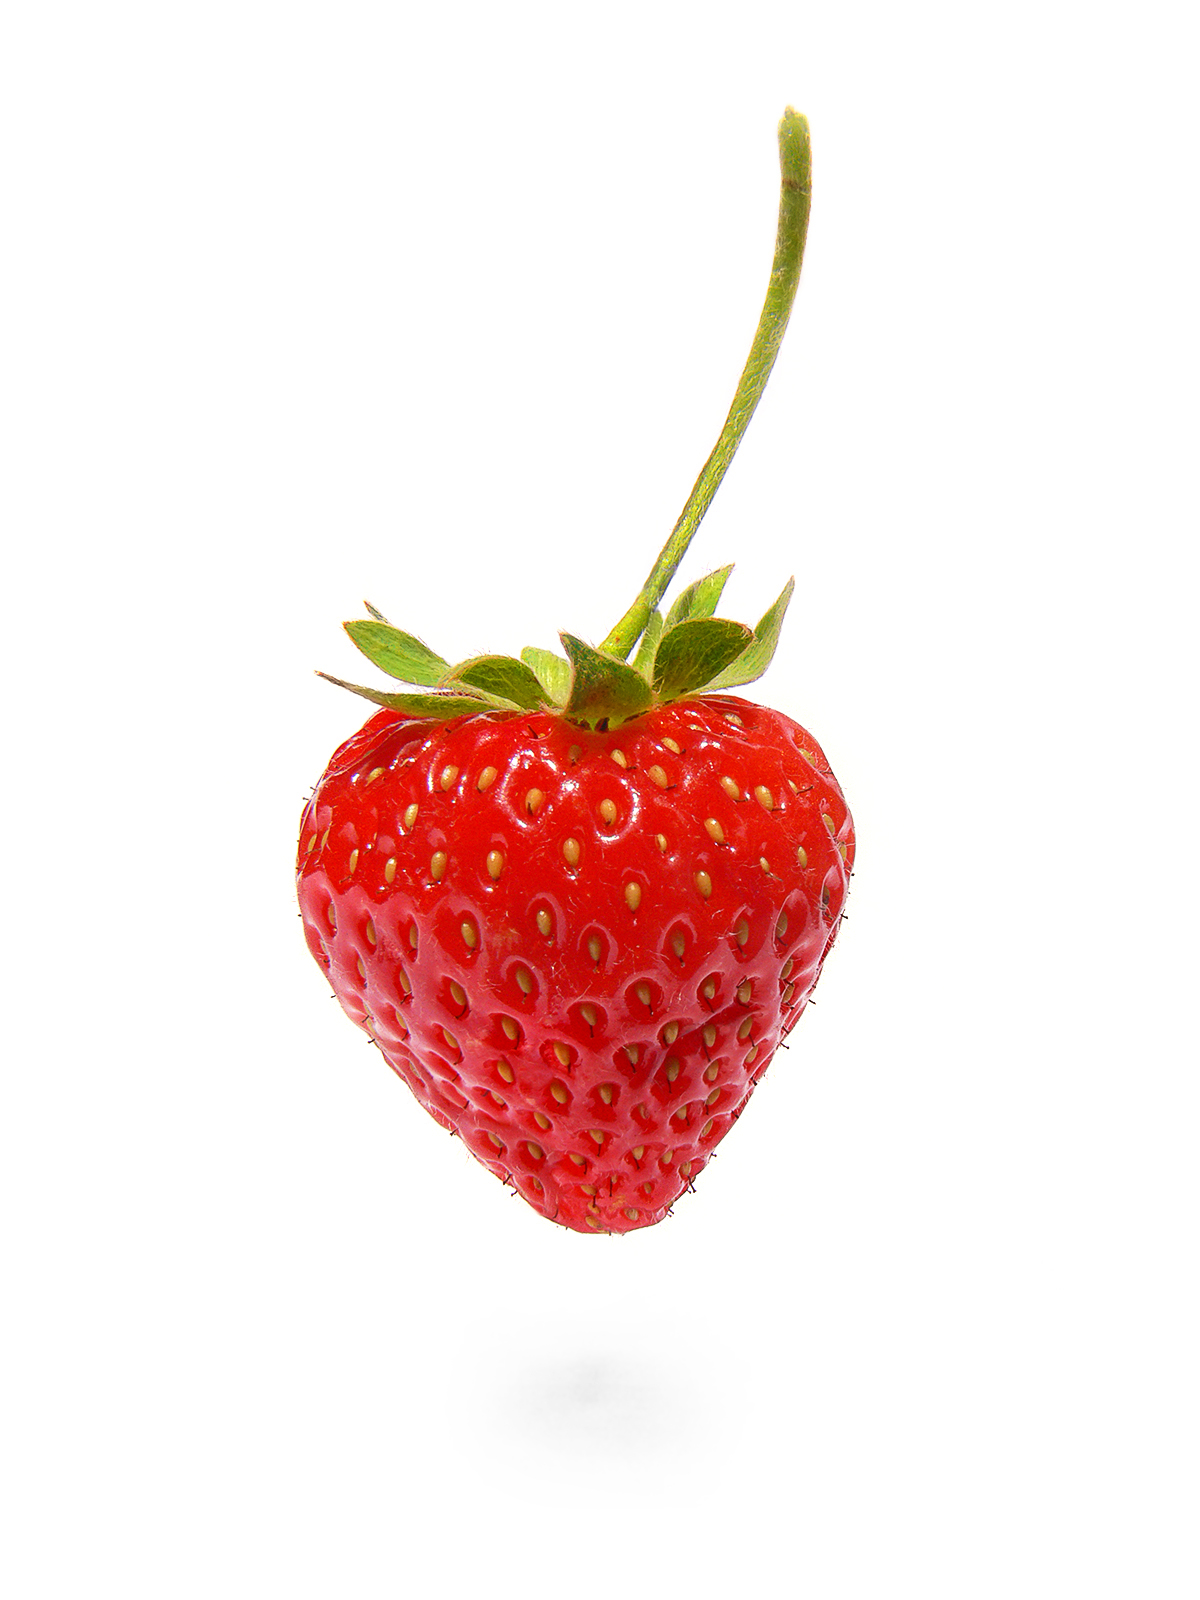strawberry: (277, 623, 886, 1254)
